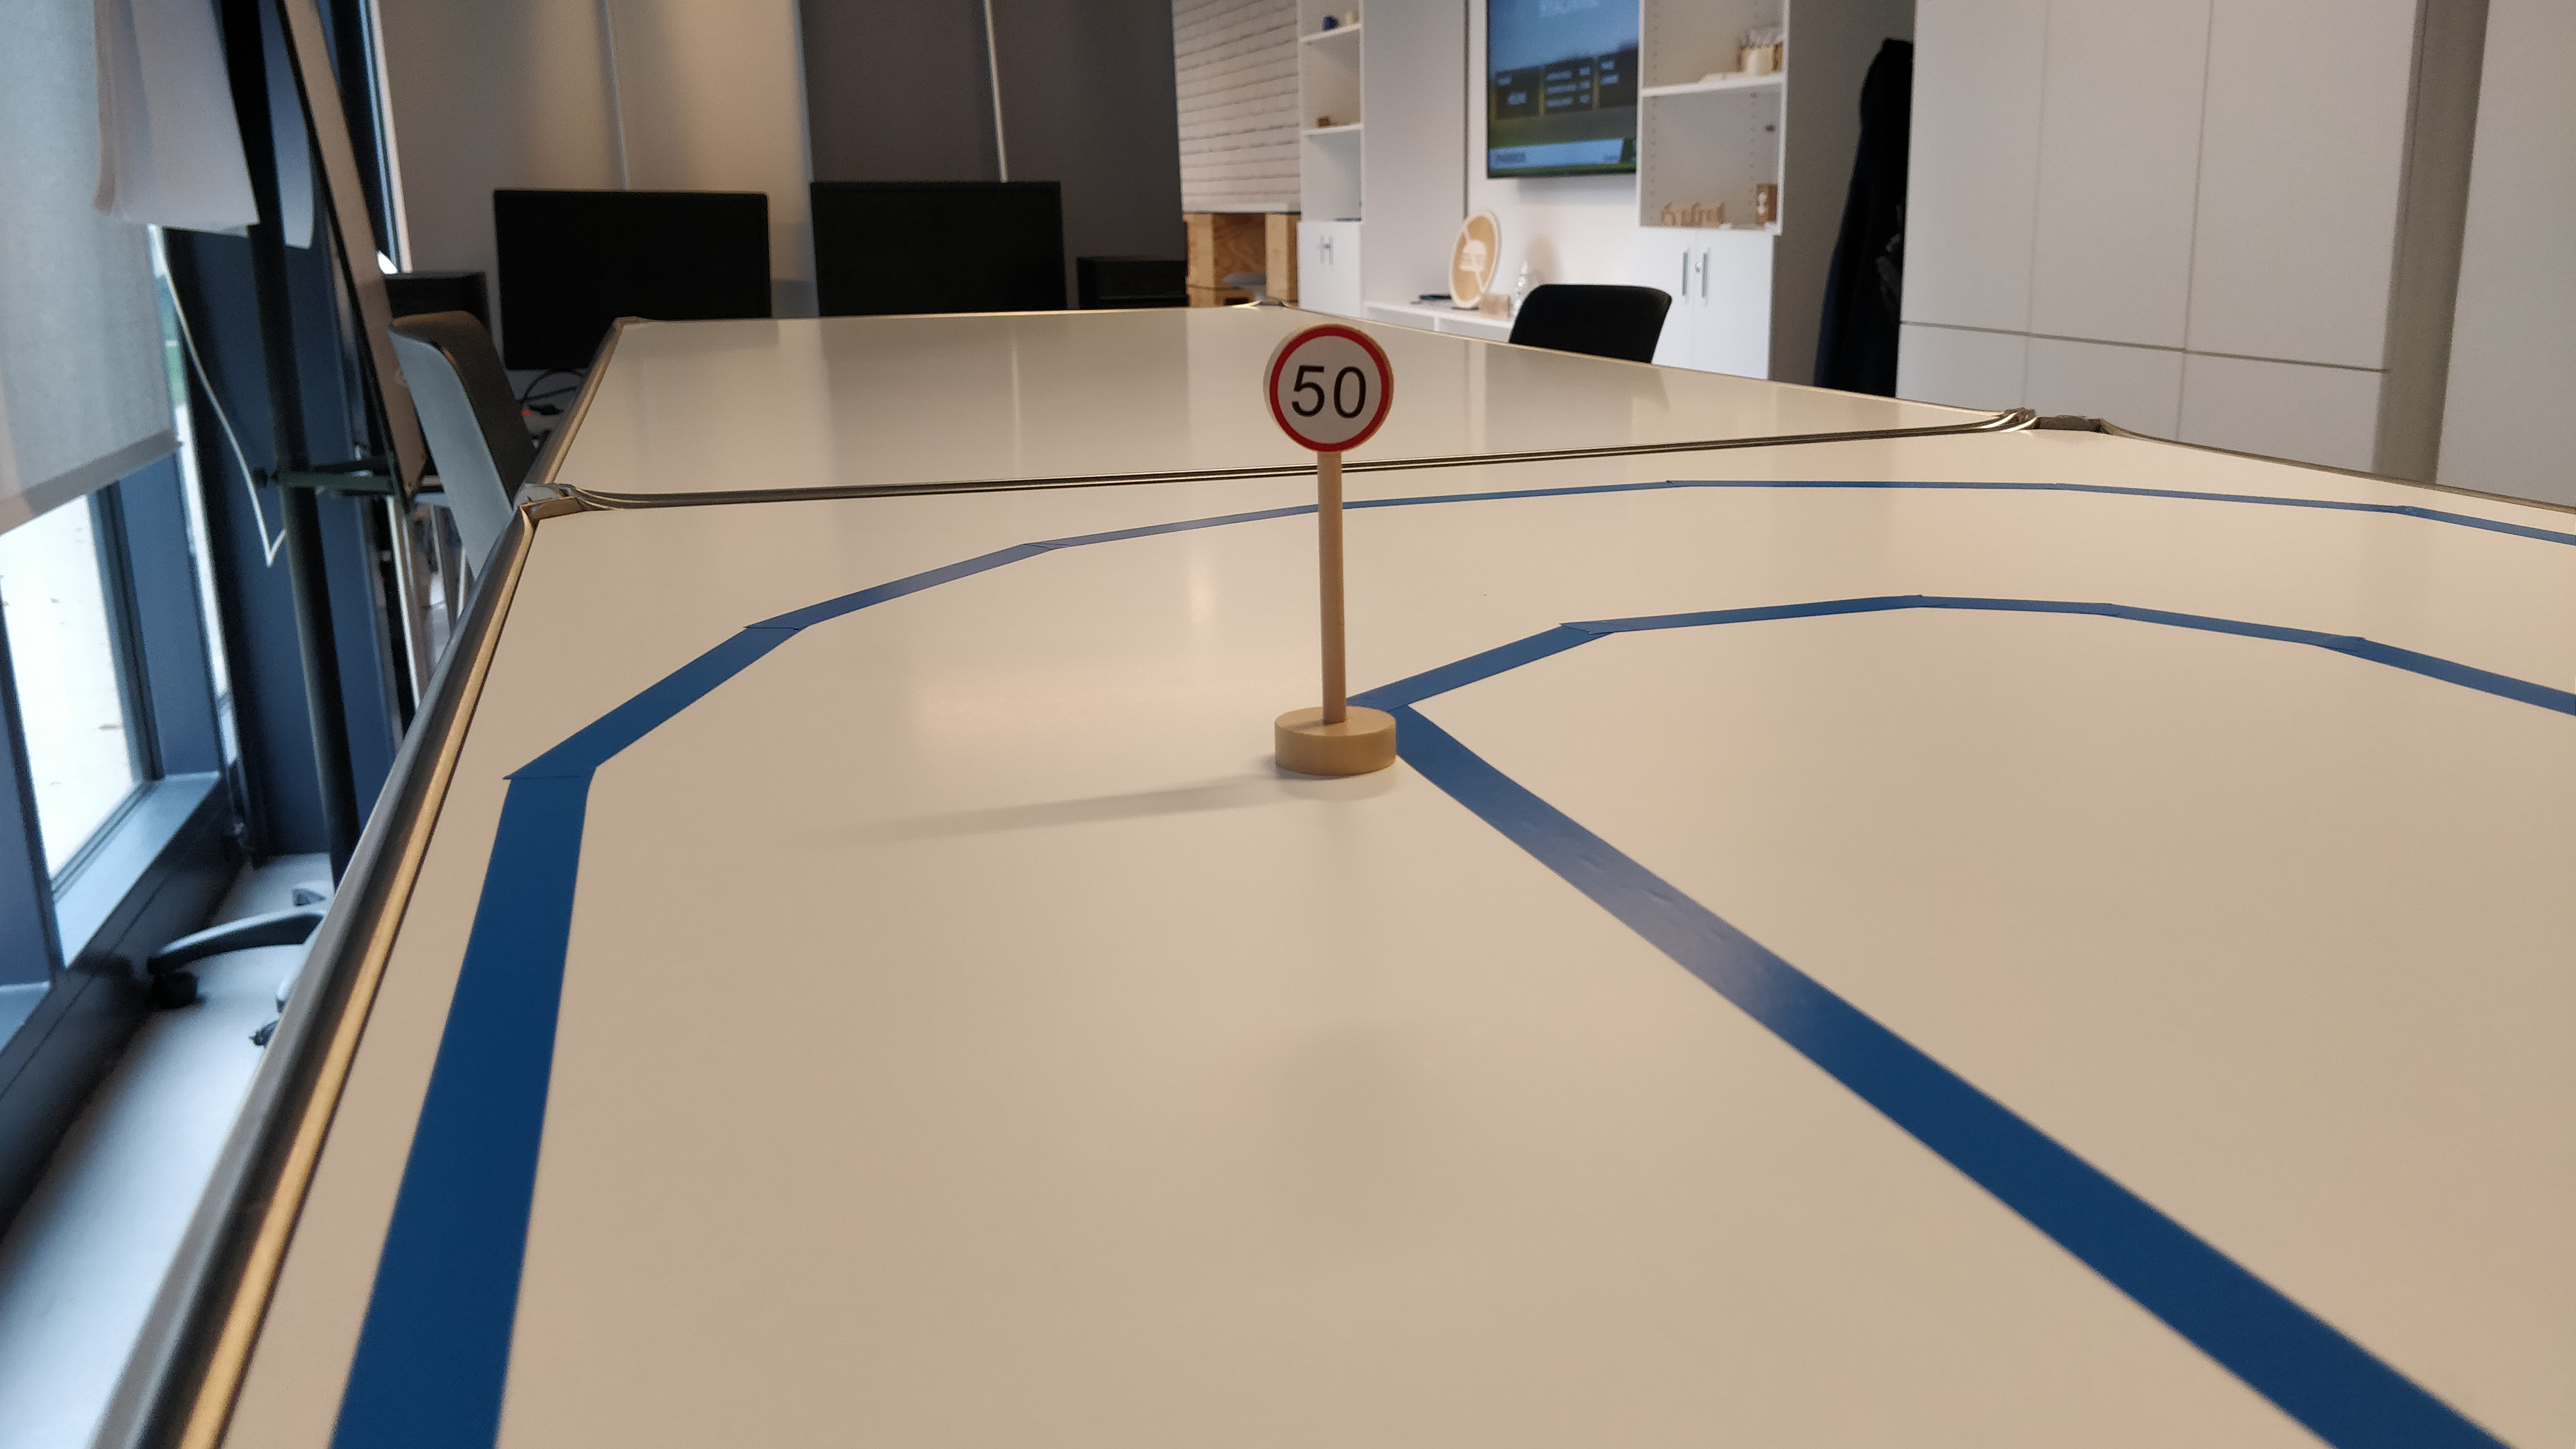Speed Limit 50: (1261, 324, 1399, 454)
